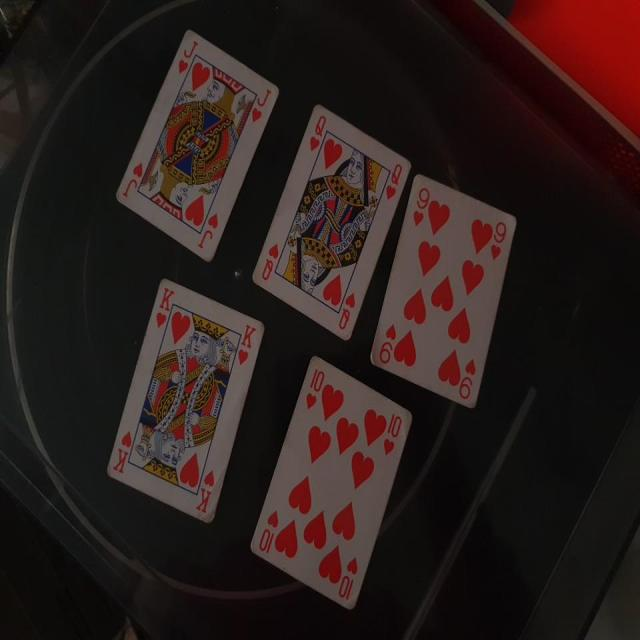10 Hearts: (226, 348, 416, 618)
9 Hearts: (365, 165, 520, 402)
J Hearts: (105, 25, 277, 276)
K Hearts: (96, 276, 267, 534)
Q Hearts: (242, 90, 410, 340)
